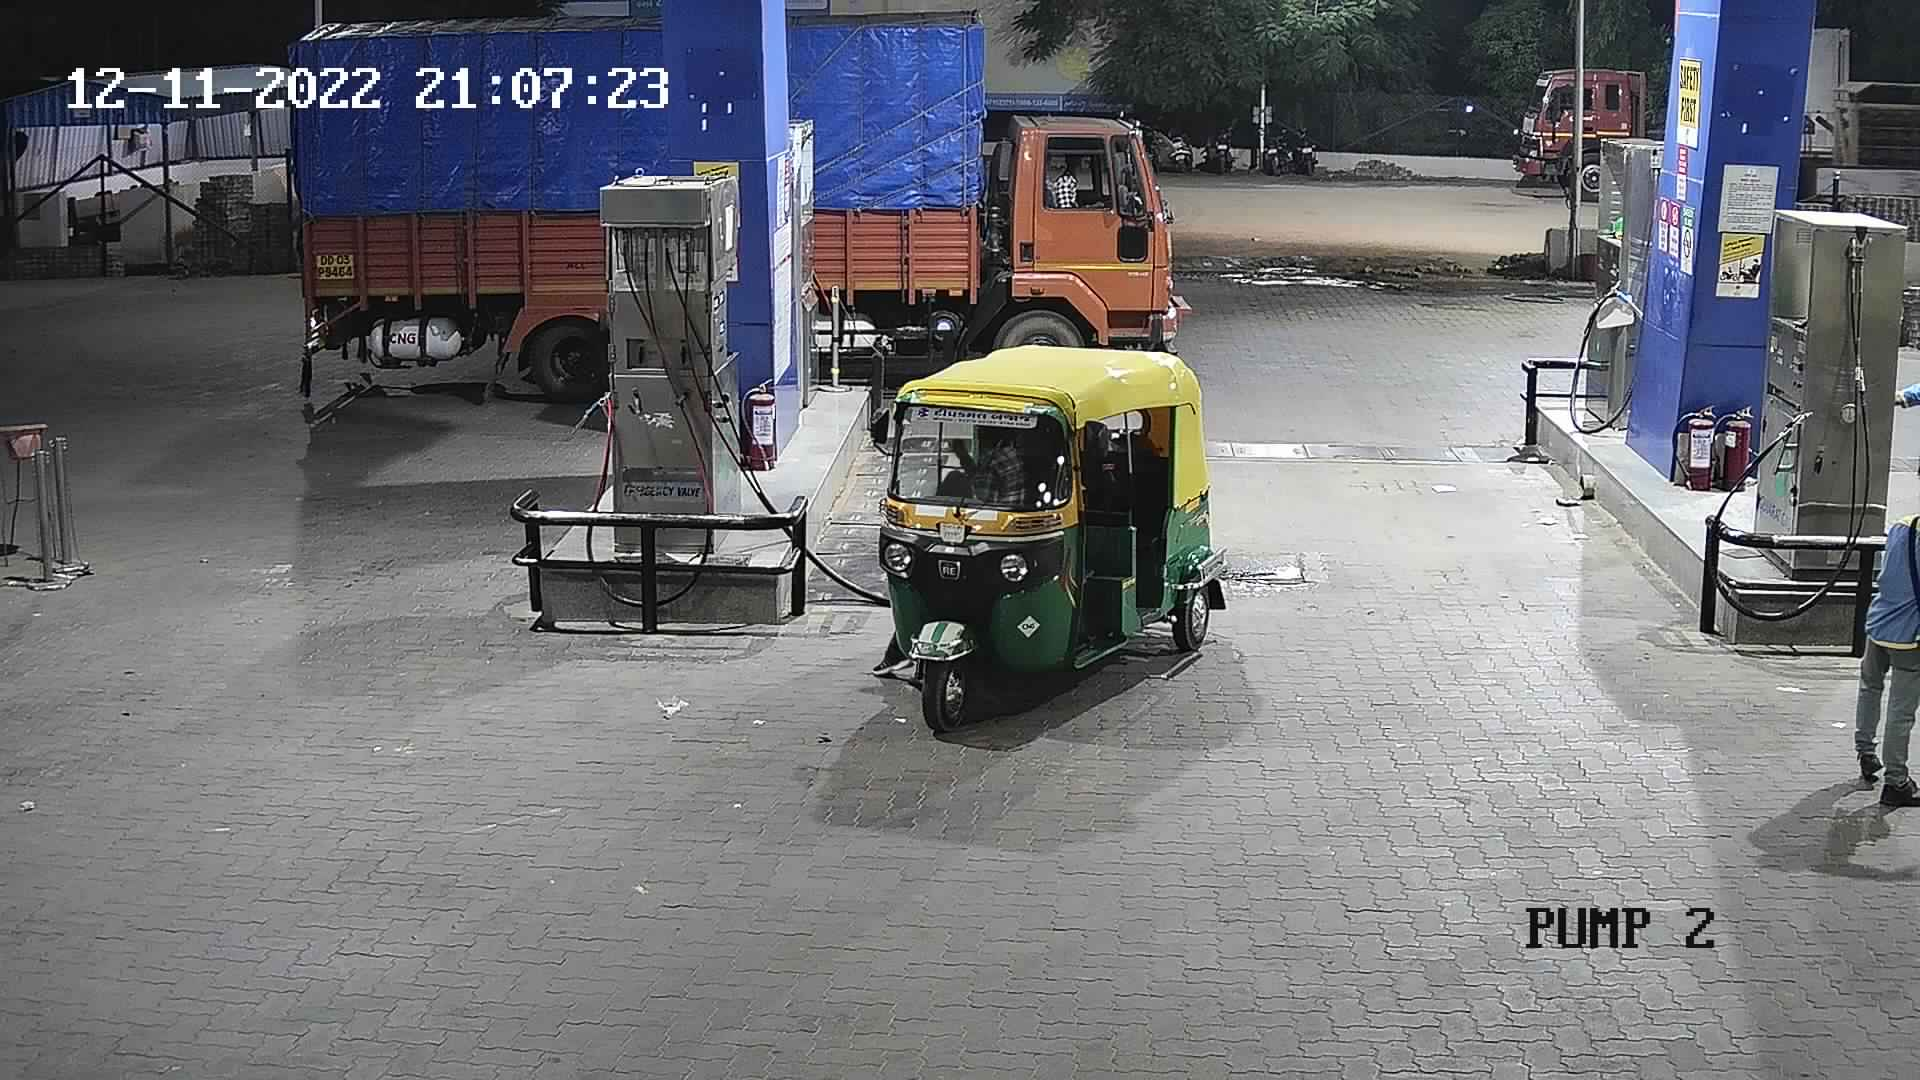Auto: (861, 332, 1237, 737)
Bike: (1149, 121, 1203, 182), (1283, 117, 1328, 179), (1251, 121, 1295, 182), (1199, 125, 1247, 179)
HMV: (266, 3, 665, 405), (1494, 51, 1679, 214), (1779, 66, 1917, 219)
Others: (1838, 488, 1917, 814)
